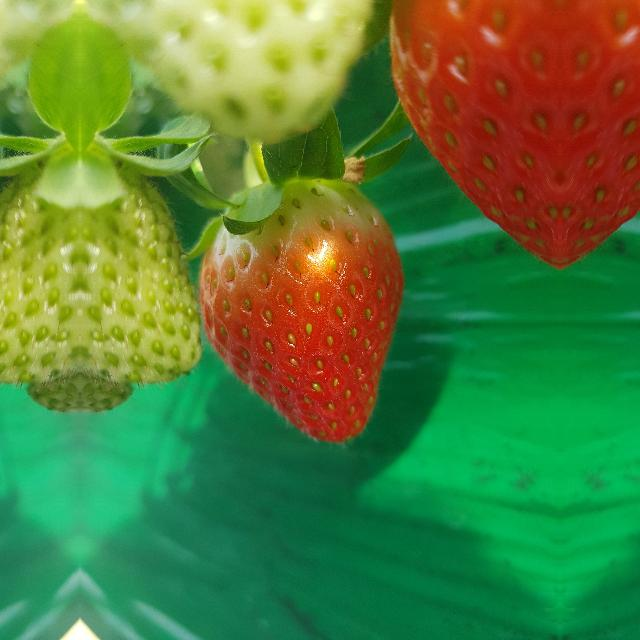Health_100: (198, 178, 404, 444)
